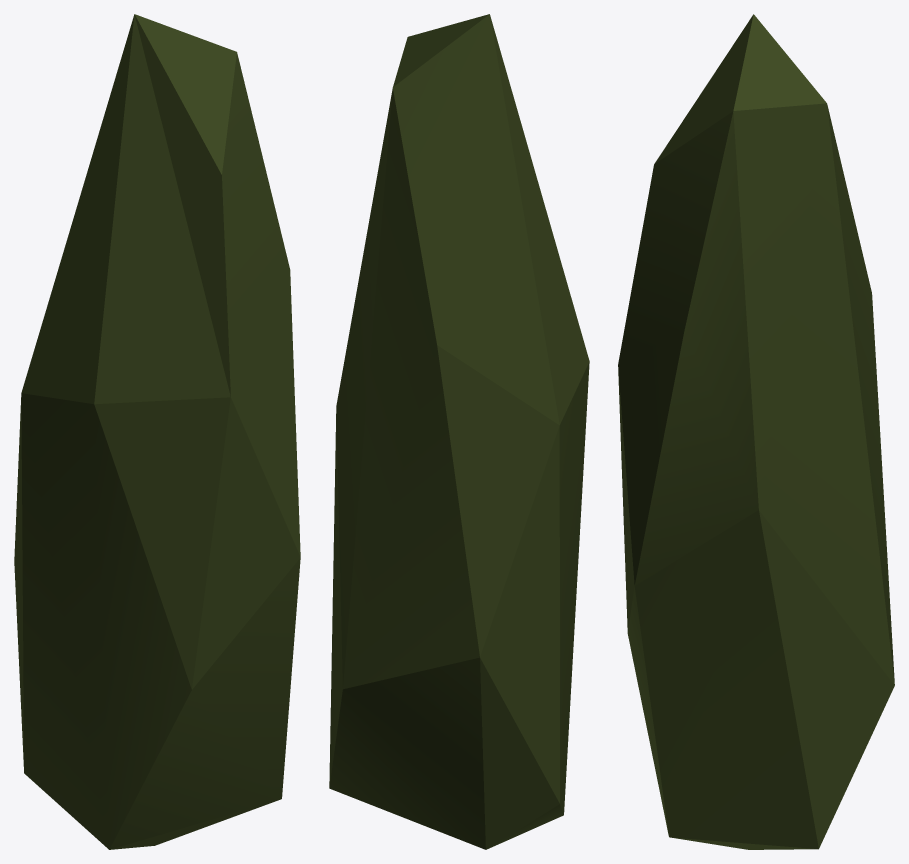
Rendered from JuniperA.fbx.
3 renders of one model, left to right at view 1: azimuth 30°, elevation 25°; view 2: azimuth 150°, elevation 25°; view 3: azimuth 270°, elevation 25°, orthographic.
Parts seen in each view (by area): view 1: JuniperA; view 2: JuniperA; view 3: JuniperA.
Boxes of the visible parts, bbox=[...] form: JuniperA: bbox=[14, 14, 300, 849]; JuniperA: bbox=[329, 14, 589, 849]; JuniperA: bbox=[618, 14, 894, 849].
Size of the model in its own units: 71.97 by 237 by 71.89.
